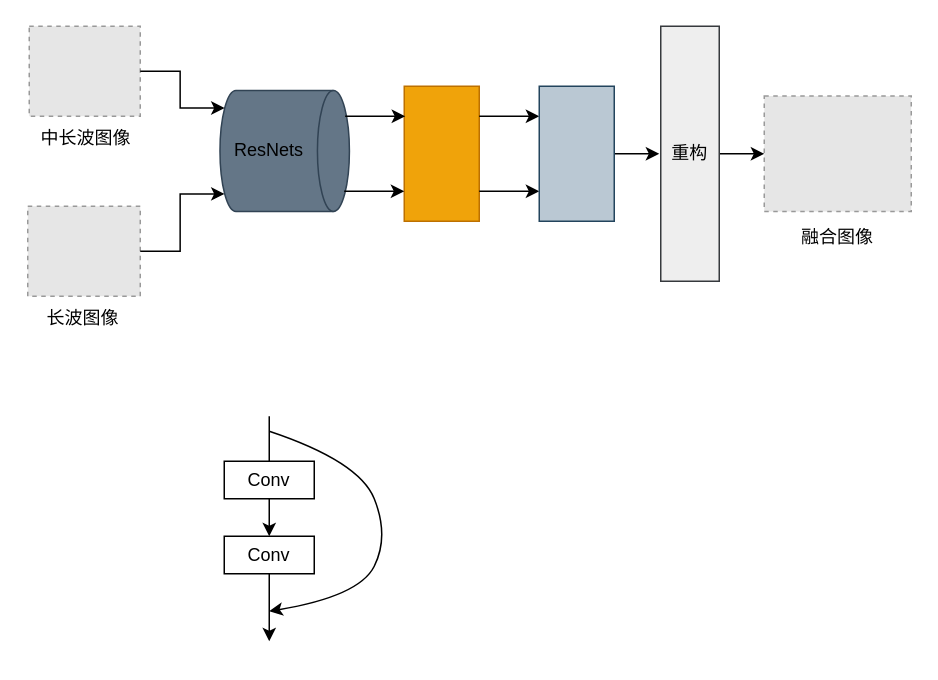
This 938x680 diagram has some shape labels left out. Grey dashed boxes stand in for pictures. Each missing label, with the centre of its shape:
"Resize" belongs at pixel 576 153.
"ZCA L1-Norm" belongs at pixel 441 153.
